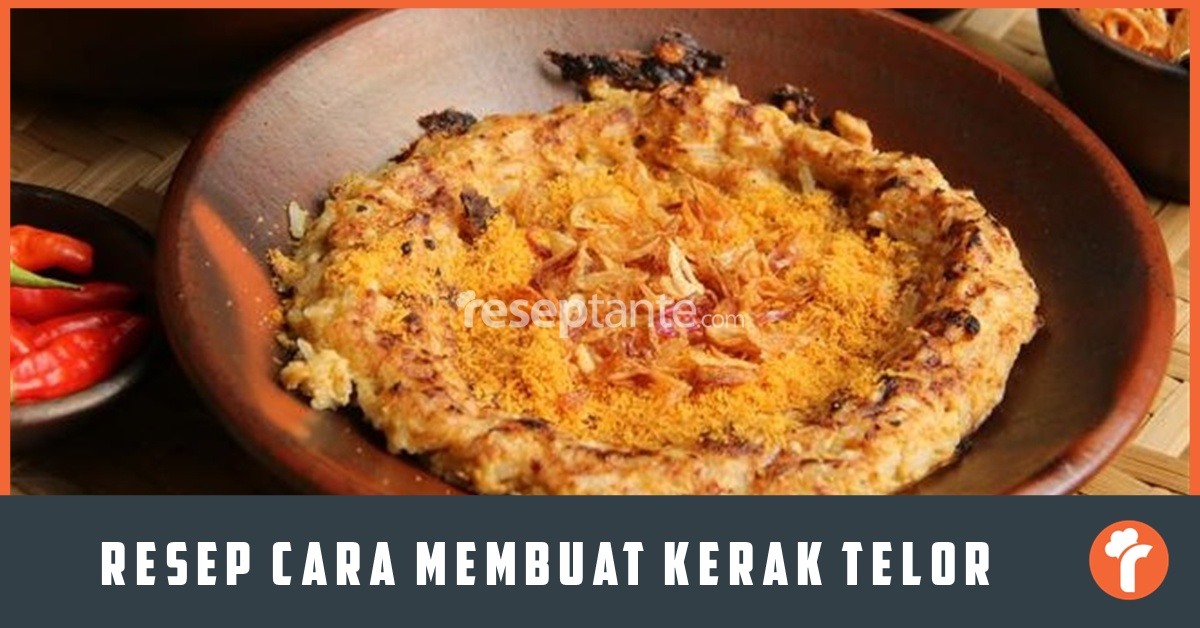kerak_telor: (272, 71, 1046, 493)
